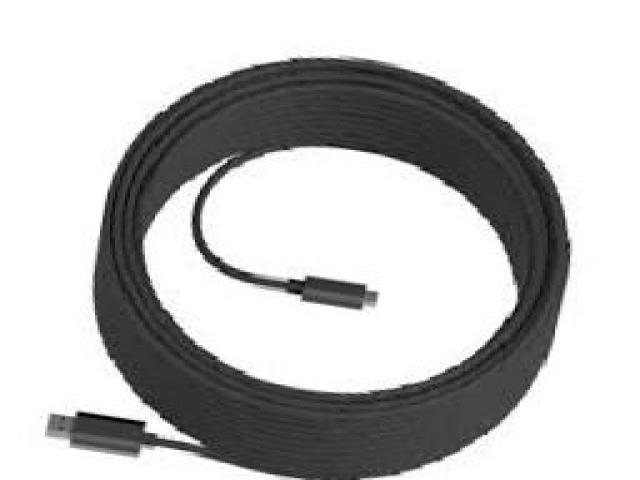wire: (49, 59, 568, 480)
